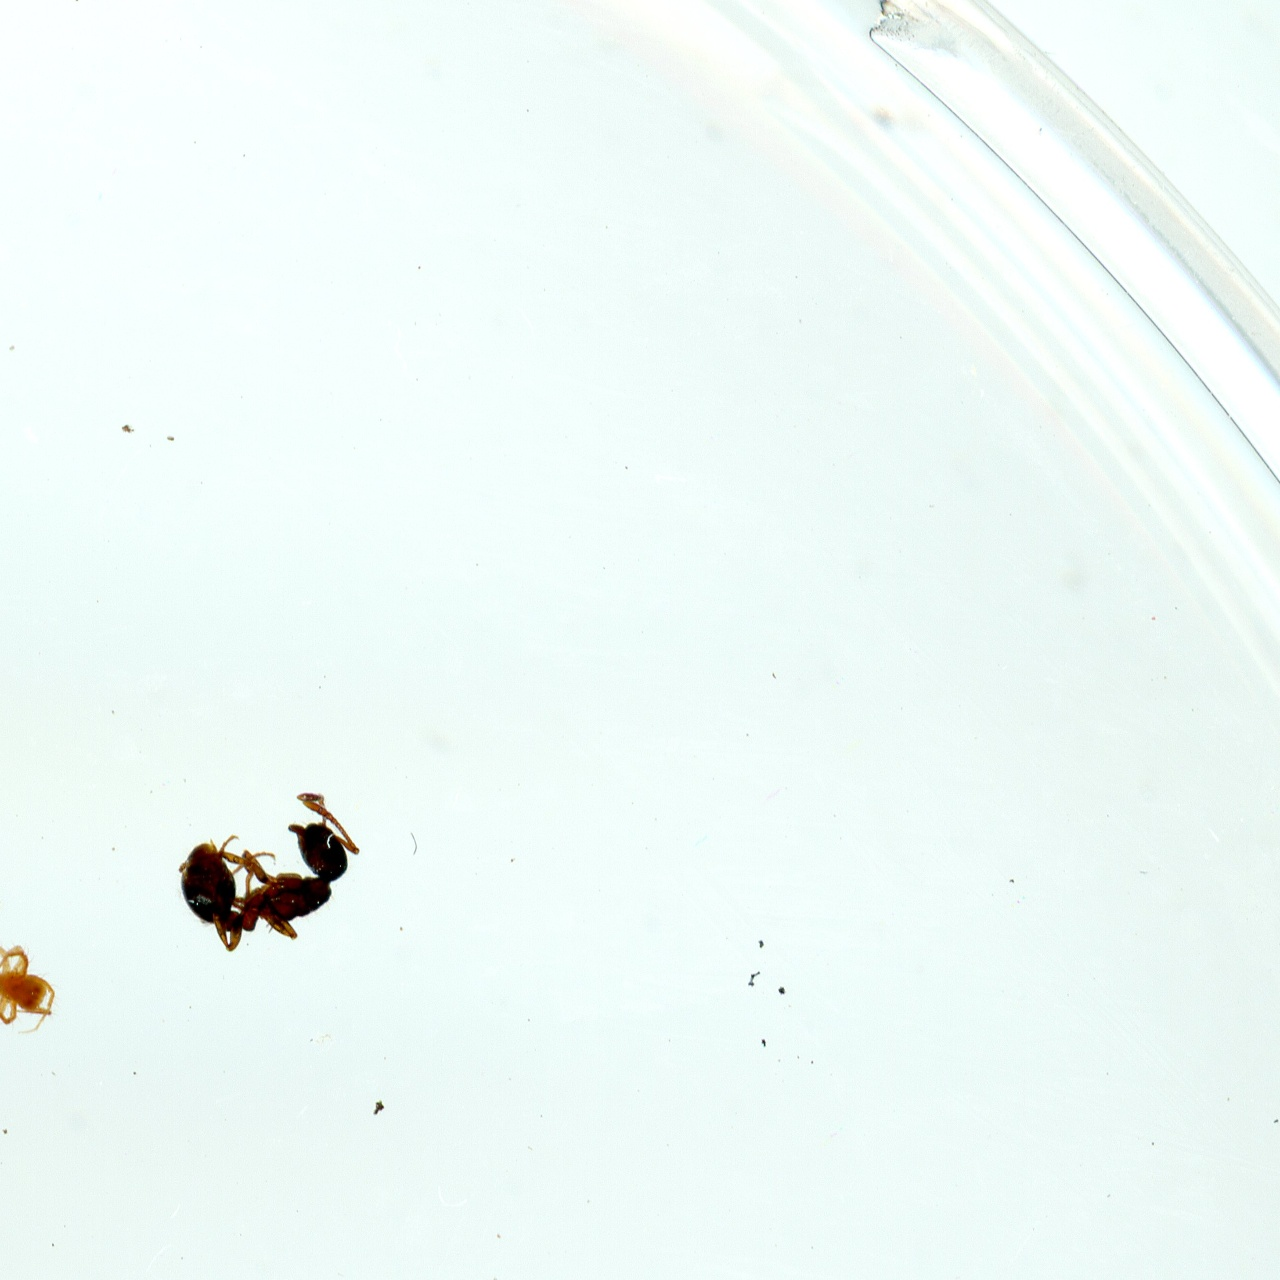arthropod: (173, 785, 363, 955), (0, 941, 61, 1037)
